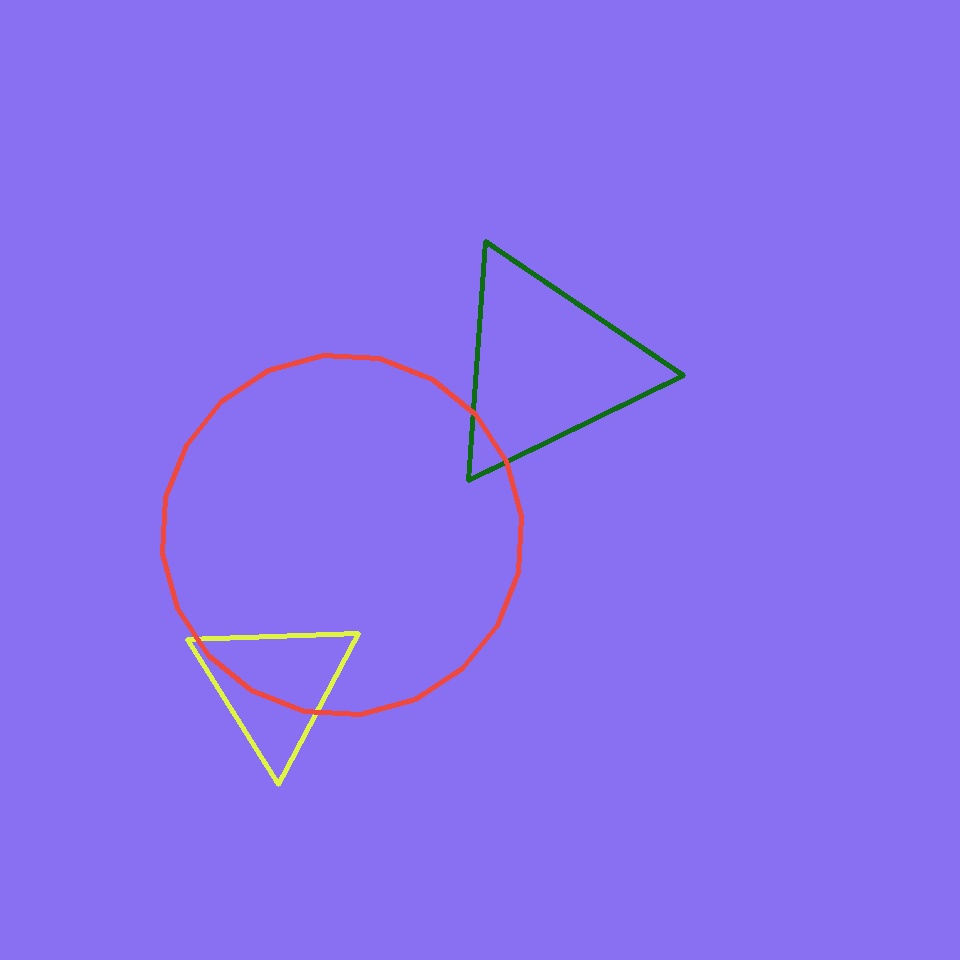circle: (438, 246, 654, 486), (190, 610, 360, 762)
triangle: (162, 355, 522, 714)
